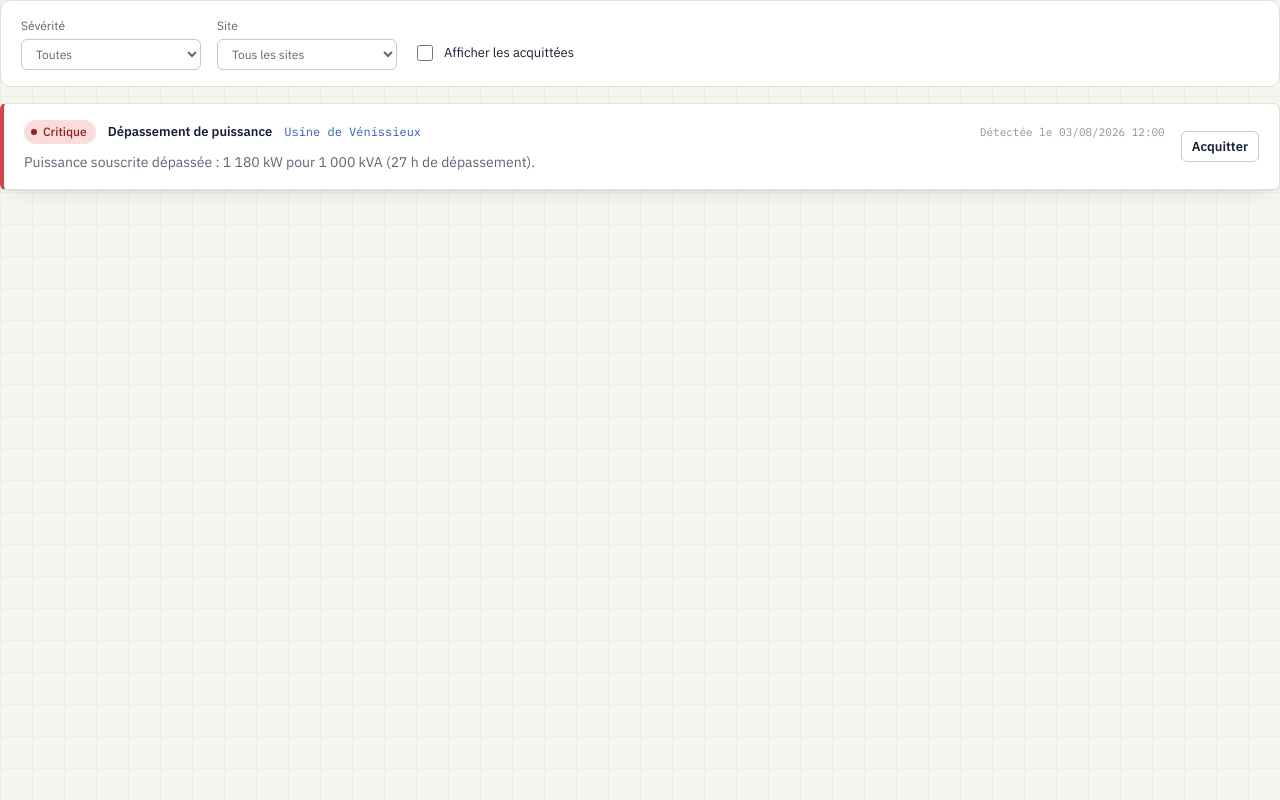
AlertesPage › shows the backend 409 message as is
Click the button "Acquitter" at x=1220, y=147, box [1181,131,1259,162]
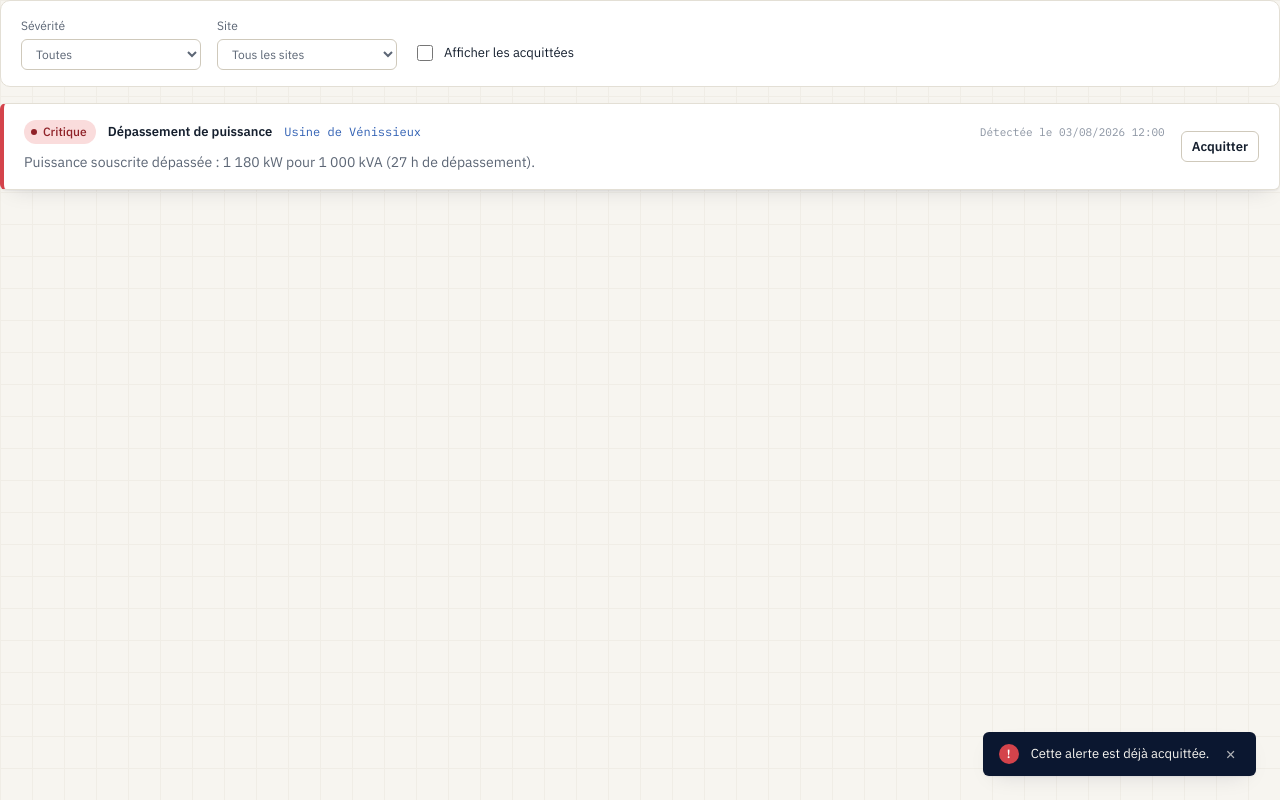
expect the text "Cette alerte est déjà acquittée." is shown: met, box [1031,744,1209,764]
